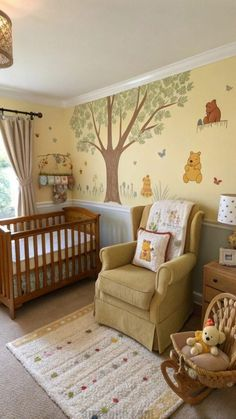crib: (0, 206, 102, 319)
